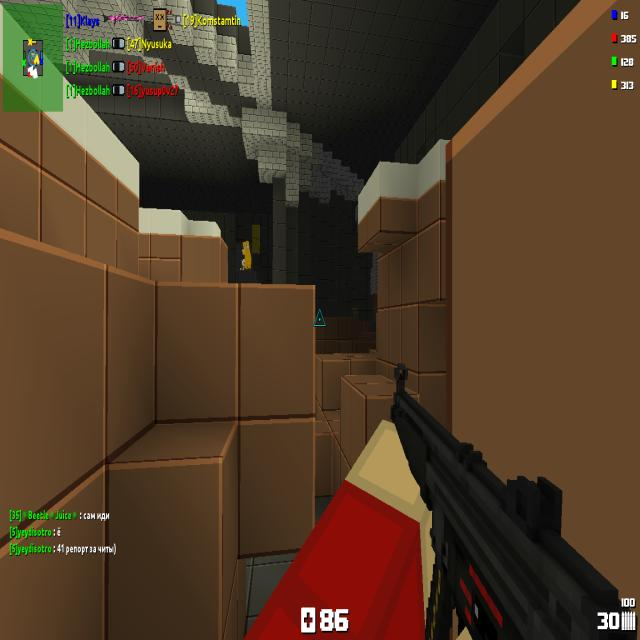enemy: (242, 241, 252, 269), (241, 259, 246, 270)
